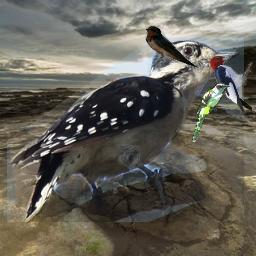Cuckoo: (192, 83, 230, 142)
Swallow: (144, 25, 199, 69)
Woodpecker: (7, 38, 244, 222), (208, 53, 255, 115)
